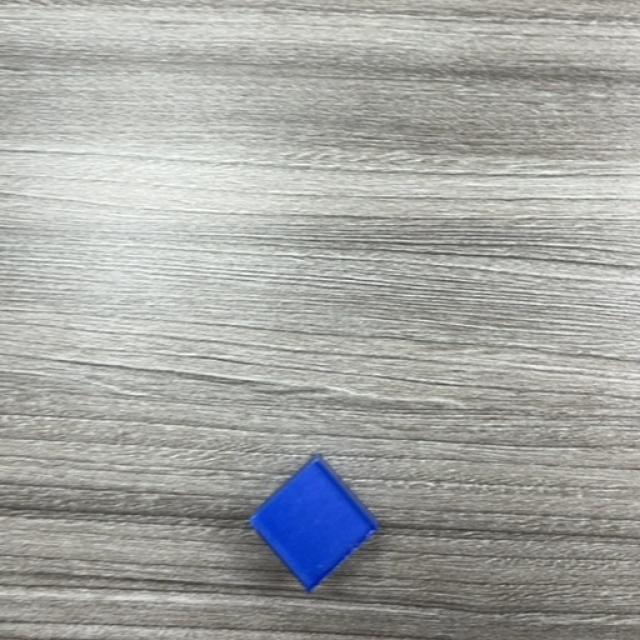Azul: (248, 458, 380, 594)
